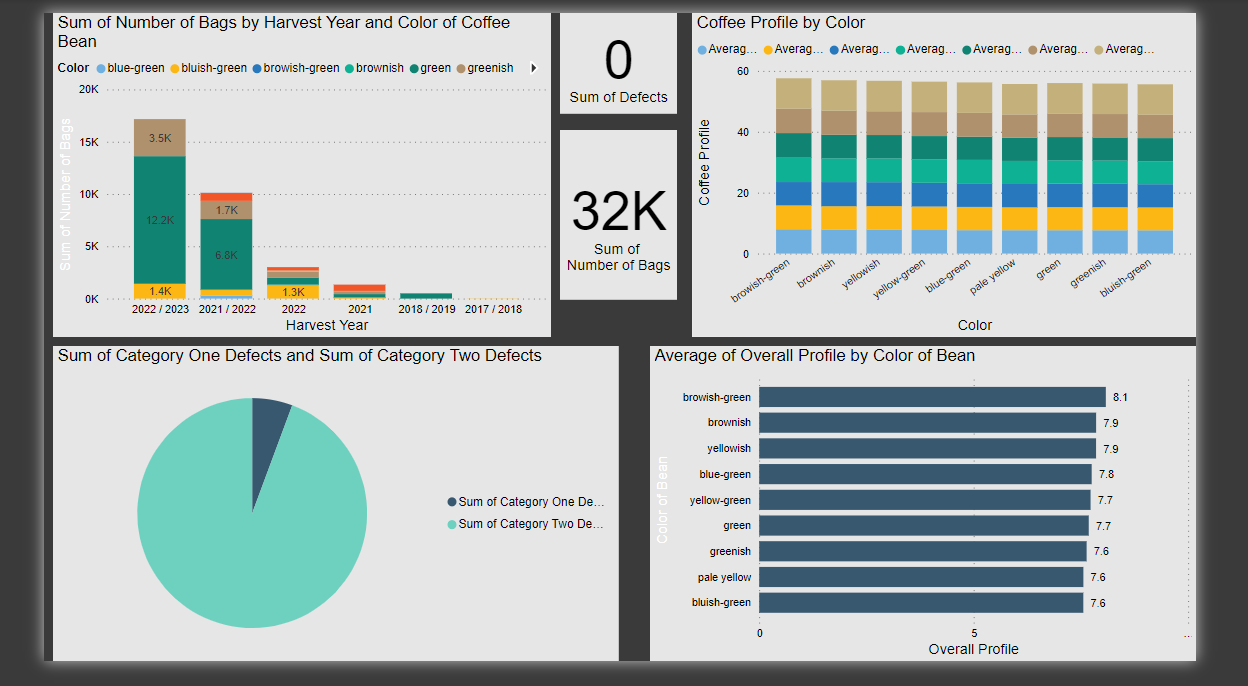

Layout of this report page (visuals, bound fields, positions):
{"tool":"powerbi","page":{"name":"Final","canvas":[1280,720],"ordinal":0},"visuals":[{"type":"columnChart","title":"Sum of Number of Bags by Harvest Year and Color of Coffee Bean","fields":{"Y":["Sum(df_arabica_clean.Number of Bags)"],"Category":["df_arabica_clean.Harvest Year"],"Series":["df_arabica_clean.Color"]},"box":[10,0,553.3,360],"z":0},{"type":"pieChart","fields":{"Y":["Sum(df_arabica_clean.Category One Defects)","Sum(df_arabica_clean.Category Two Defects)"]},"box":[10,370,628.3,350],"z":1000},{"type":"card","fields":{"Values":["Sum(df_arabica_clean.Defects)"]},"box":[573.3,0,130,111.7],"z":2000},{"type":"card","fields":{"Values":["Sum(df_arabica_clean.Number of Bags)"]},"box":[573.3,130,130,188.3],"z":3000},{"type":"barChart","title":"Average of Overall Profile by Color of Bean","fields":{"Category":["df_arabica_clean.Color"],"Y":["Avg(df_arabica_clean.Overall)"]},"box":[673.3,370,606.7,350],"z":4000},{"type":"columnChart","title":"Coffee Profile by Color","fields":{"Category":["df_arabica_clean.Color"],"Y":["Avg(df_arabica_clean.Acidity)","Avg(df_arabica_clean.Aftertaste)","Avg(df_arabica_clean.Aroma)","Avg(df_arabica_clean.Balance)","Avg(df_arabica_clean.Body)","Avg(df_arabica_clean.Flavor)","Avg(df_arabica_clean.Sweetness)"]},"box":[720,0,560,360],"z":5000}]}

Visuals, with their boxes in screenshot pixels (x1, y1, x2, y2), scaled from the page's 1280x720 canvas onto the 1248x686 screenshot:
"Sum of Number of Bags by Harvest Year and Color of Coffee Bean" columnChart: 10 0 549 343
pieChart - Sum(df_arabica_clean.Category One Defects) x Sum(df_arabica_clean.Category Two Defects): 10 353 622 685
card - Sum(df_arabica_clean.Defects): 559 0 686 106
card - Sum(df_arabica_clean.Number of Bags): 559 124 686 303
"Average of Overall Profile by Color of Bean" barChart: 656 353 1247 685
"Coffee Profile by Color" columnChart: 702 0 1247 343
